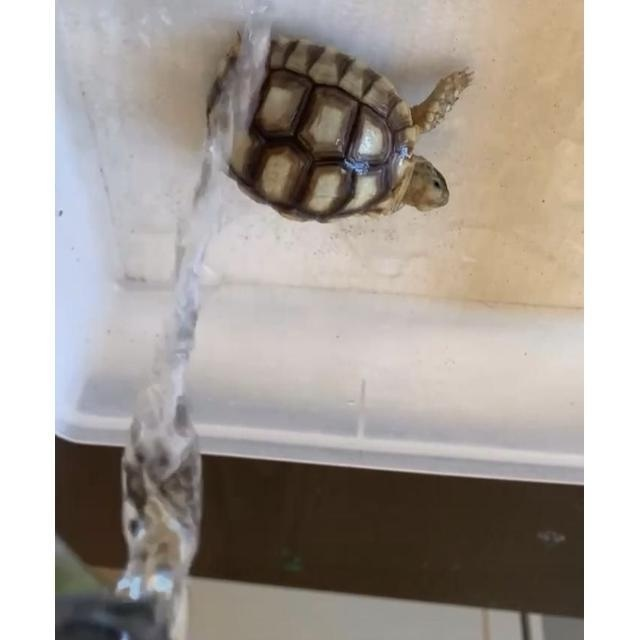turtle: (205, 35, 473, 222)
